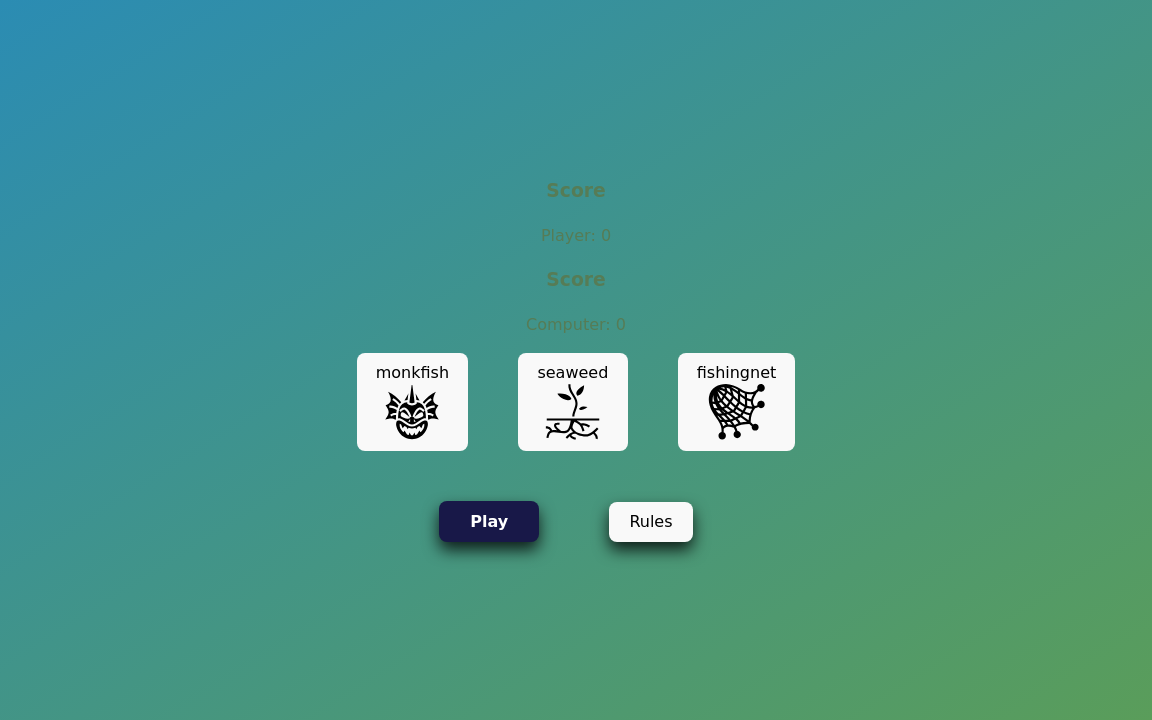
Score and results › should display Computer winner message on the page
The width and height of the screenshot is (1152, 720).
Click the button "seaweed".
click(573, 402)  # box [518,353,628,451]
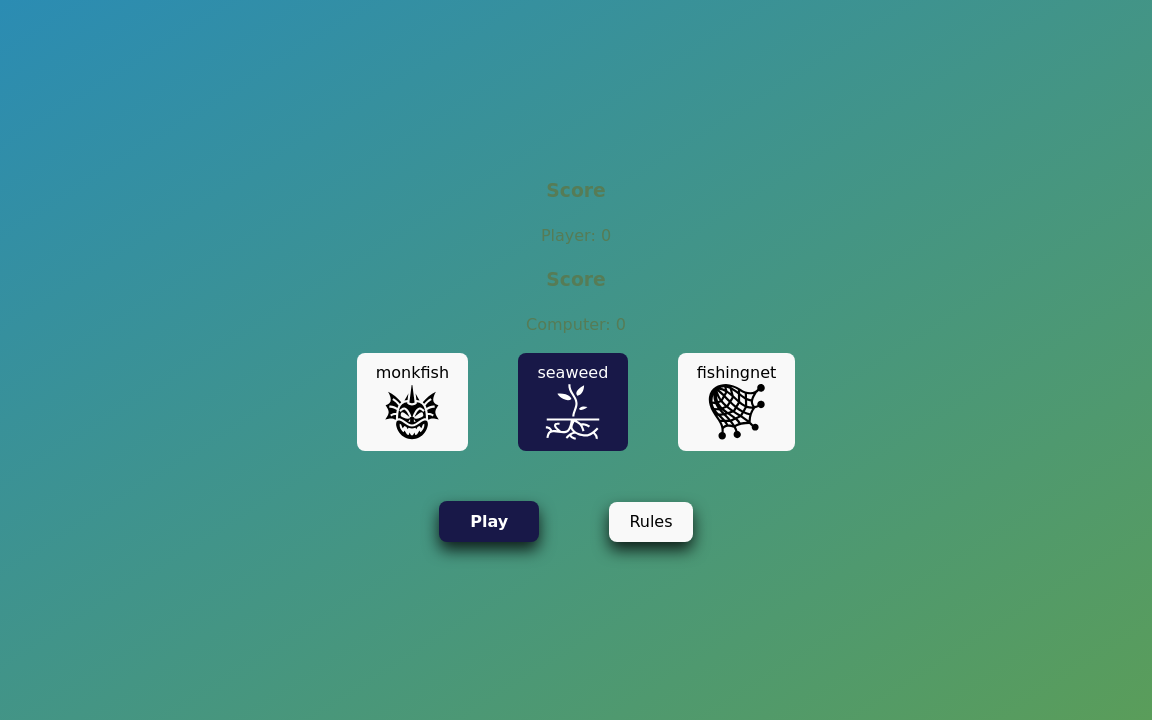
Click the button "Play".
click(489, 522)  # box [439,501,539,542]
Wait 3000 ms
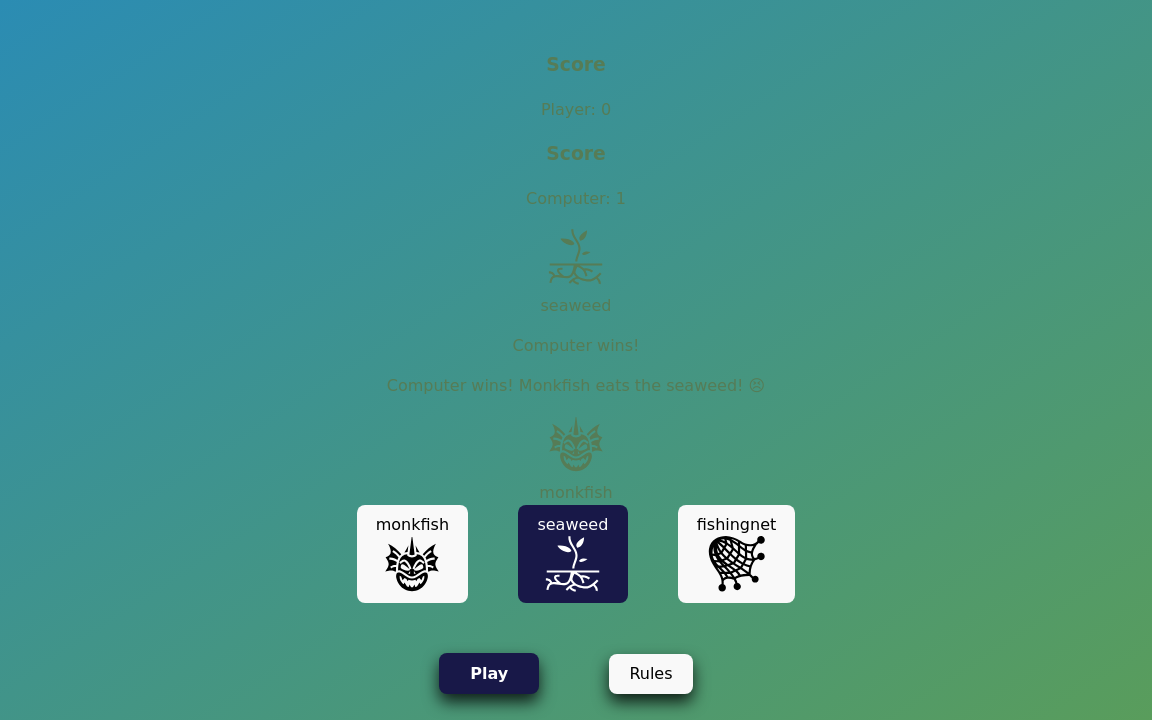
Check: the text "Computer wins!" is shown, box [512,336,640,355]
Check: the text "Computer wins! Monkfish eats the seaweed! 😣" is shown, box [356,374,796,398]
Check: the text "Computer: 1" is shown, box [526,189,626,208]
